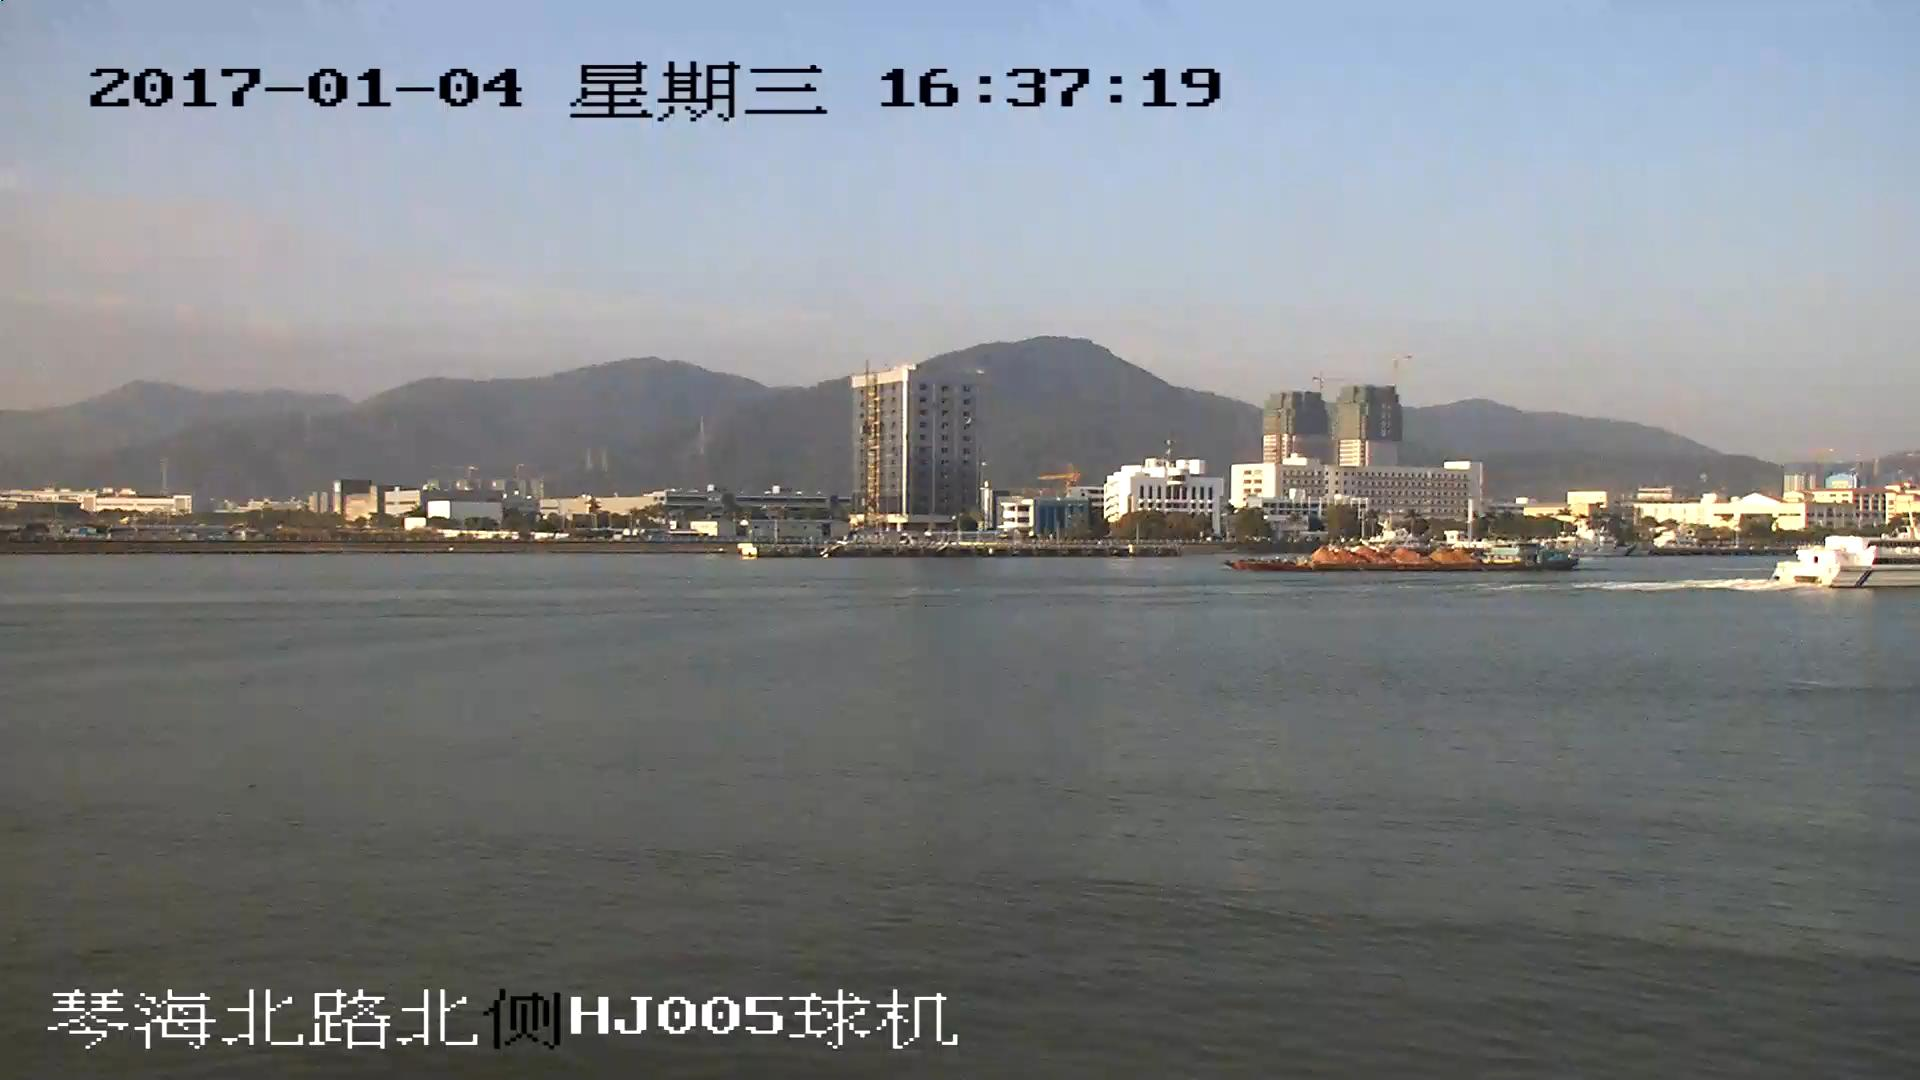ore carrier: (1232, 538, 1576, 576)
passenger ship: (1772, 536, 1920, 589)
